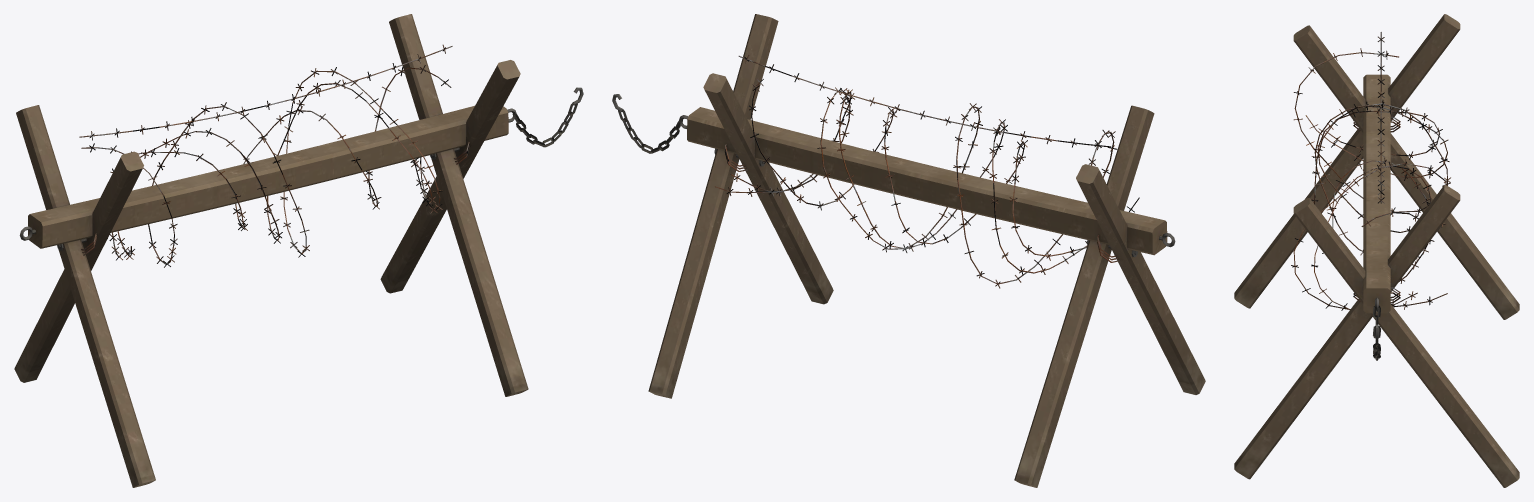
The model's file is knife_rest.glb.
3 renders of one model, left to right at view 1: azimuth 30°, elevation 25°; view 2: azimuth 150°, elevation 25°; view 3: azimuth 270°, elevation 25°, orthographic. The views are drawn at different scales.
Parts seen in each view (by area): view 1: knife_rest; view 2: knife_rest; view 3: knife_rest.
Boxes of the visible parts, left/top/right/bottom form: knife_rest: left=14, top=14, right=583, bottom=487; knife_rest: left=612, top=14, right=1205, bottom=487; knife_rest: left=1234, top=14, right=1519, bottom=487.
Bounding box in the file's own units: 2.9 × 1.5 × 1.36.
Materials: 2 (2 with a texture image).
